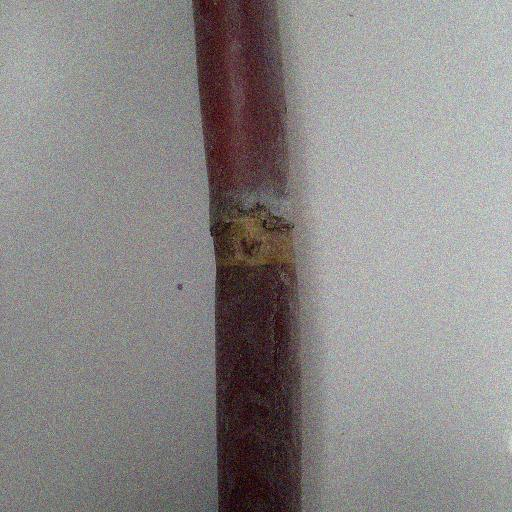Bud: (238, 228, 263, 259)
